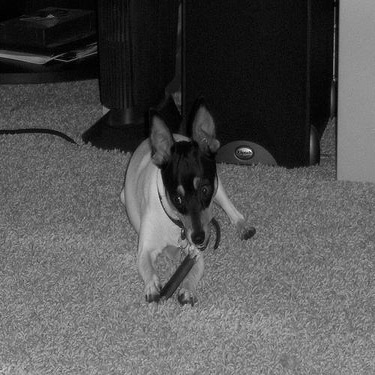dog: (90, 99, 268, 315)
